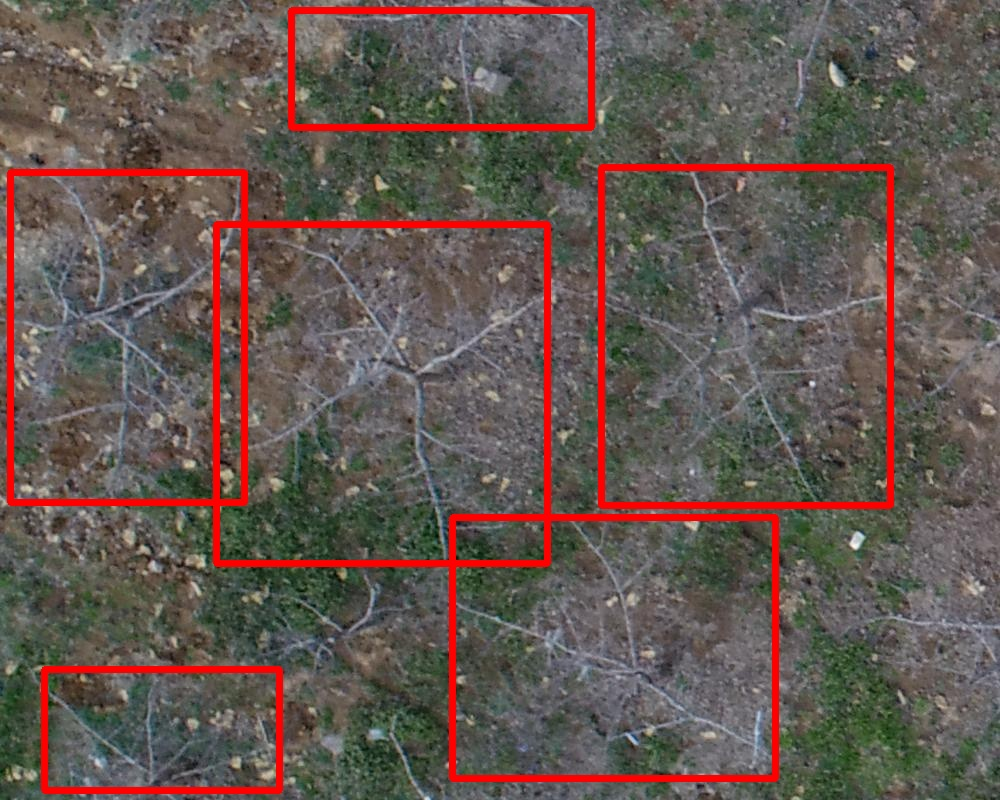apple: (216, 224, 547, 563), (601, 167, 890, 505), (452, 517, 775, 778), (10, 172, 244, 502), (291, 10, 591, 127), (44, 669, 279, 790)
